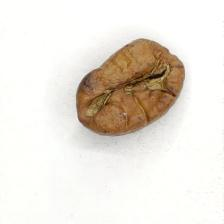NG: (80, 69, 169, 129)
